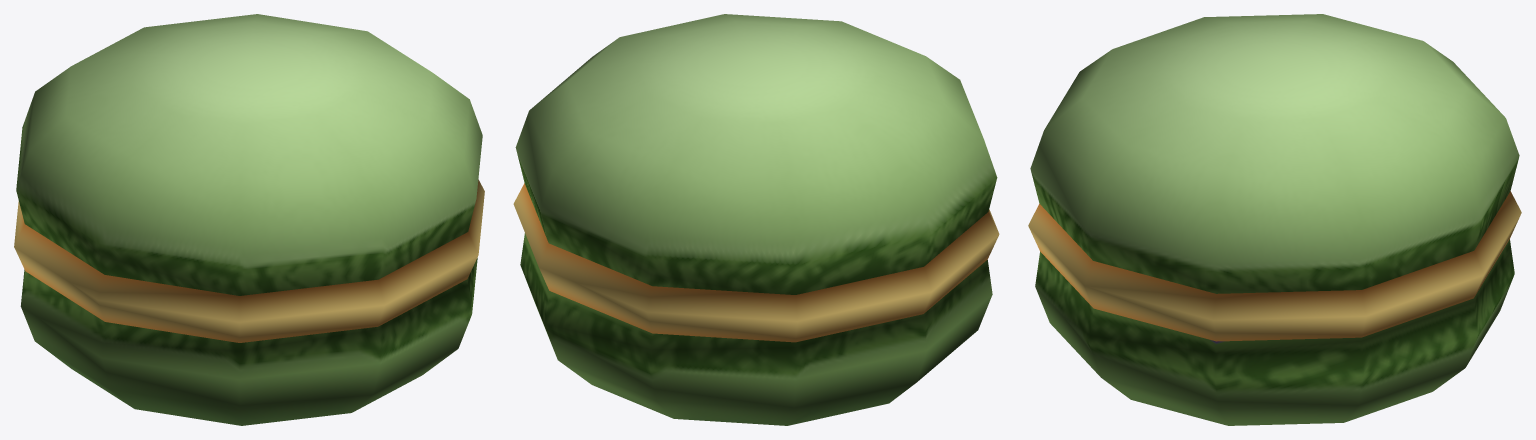
Rendered from 010-Macaron_04.FBX.
The picture shows the model from 3 angles, left to right: view 1: azimuth 30°, elevation 25°; view 2: azimuth 150°, elevation 25°; view 3: azimuth 270°, elevation 25°; orthographic projection.
Visible parts, largest first — view 1: 010-Macaron_04; view 2: 010-Macaron_04; view 3: 010-Macaron_04.
Part boxes in pixels (x1,y1,x2,y2): 010-Macaron_04: (14,14,484,425); 010-Macaron_04: (513,14,999,425); 010-Macaron_04: (1028,14,1521,425).
Size of the model in its own units: 8.98 by 6.1 by 9.25.
